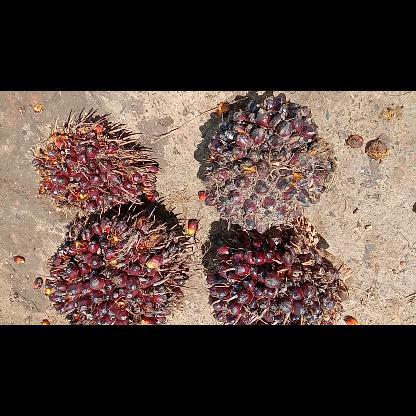Kurang masak: (39, 210, 197, 324), (204, 97, 334, 233), (206, 226, 348, 324), (30, 113, 158, 217)
